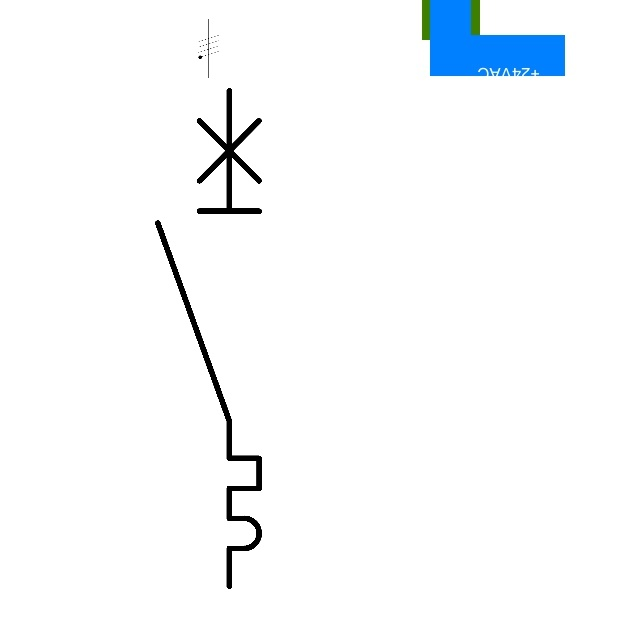interruptor_termomagnetico: (145, 77, 272, 598)
